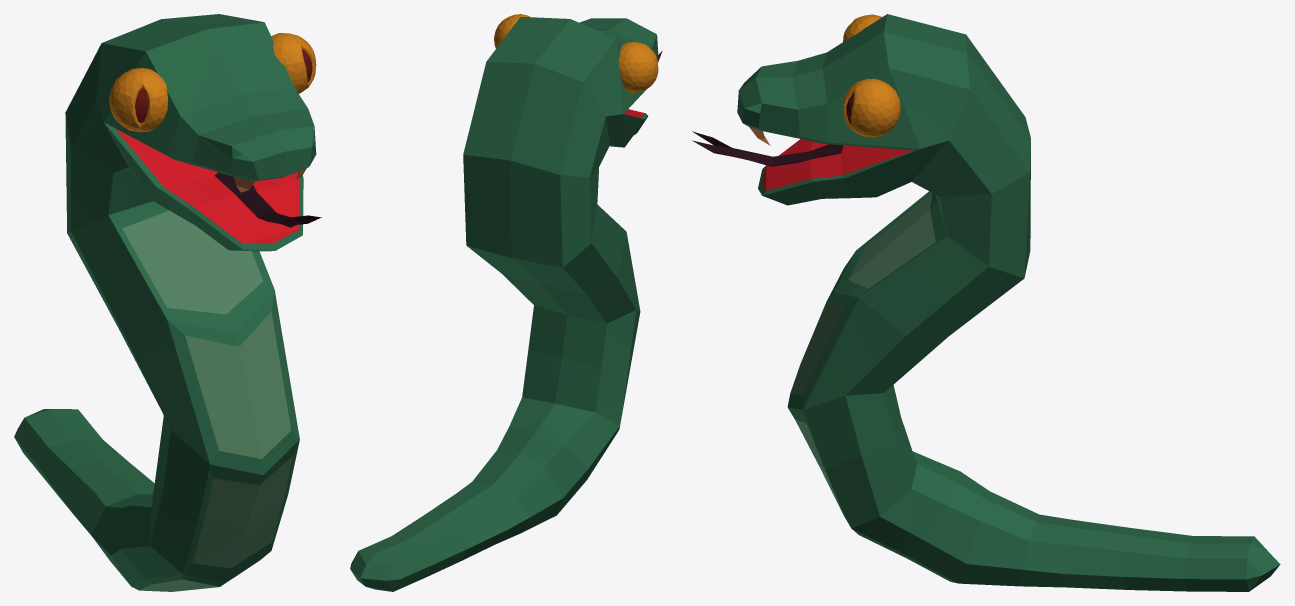
The model's file is 15_viper.obj.
3 views of the same model, side by side, from view 1: azimuth 30°, elevation 25°; view 2: azimuth 150°, elevation 25°; view 3: azimuth 270°, elevation 25° (orthographic). The views are drawn at different scales.
Visible parts, largest first — view 1: Snake; view 2: Snake; view 3: Snake.
Part boxes in pixels (bbox=[...]): Snake: bbox=[14, 14, 321, 591]; Snake: bbox=[350, 14, 662, 591]; Snake: bbox=[692, 14, 1280, 591].
Bounding box in the file's own units: 1.05 × 2.99 × 2.95.
